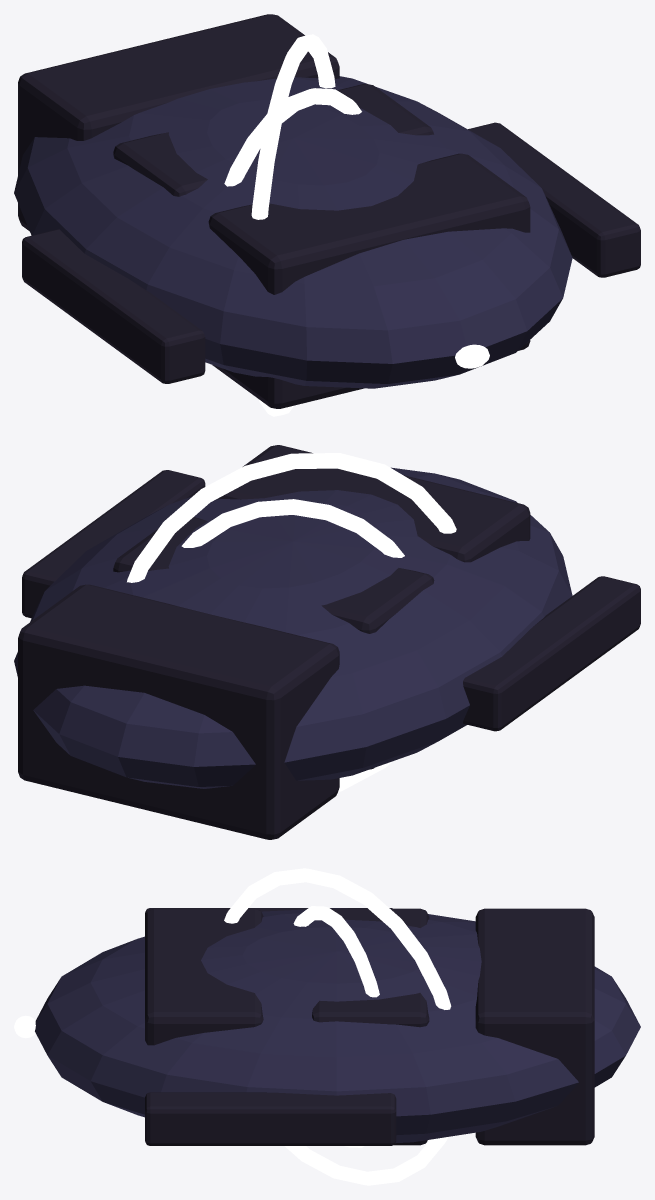
3 renders of one model, top to bottom at view 1: azimuth 30°, elevation 25°; view 2: azimuth 150°, elevation 25°; view 3: azimuth 270°, elevation 25°, orthographic. The views are drawn at different scales.
Parts seen in each view (by area): view 1: RIMWARD_HULL, RIMWARD_EMISSIVE, RIMWARD_ENGINE_GLOW; view 2: RIMWARD_HULL, RIMWARD_EMISSIVE; view 3: RIMWARD_HULL, RIMWARD_EMISSIVE.
Part boxes in pixels (x1=…): RIMWARD_HULL: x1=14, y1=14, x2=640, y2=408; RIMWARD_EMISSIVE: x1=224, y1=34, x2=361, y2=416; RIMWARD_ENGINE_GLOW: x1=455, y1=344, x2=489, y2=368; RIMWARD_HULL: x1=14, y1=445, x2=640, y2=839; RIMWARD_EMISSIVE: x1=127, y1=453, x2=456, y2=791; RIMWARD_HULL: x1=35, y1=908, x2=640, y2=1145; RIMWARD_EMISSIVE: x1=224, y1=868, x2=451, y2=1185.
Bounding box in the file's own units: 61.71 × 43.01 × 80.58.
